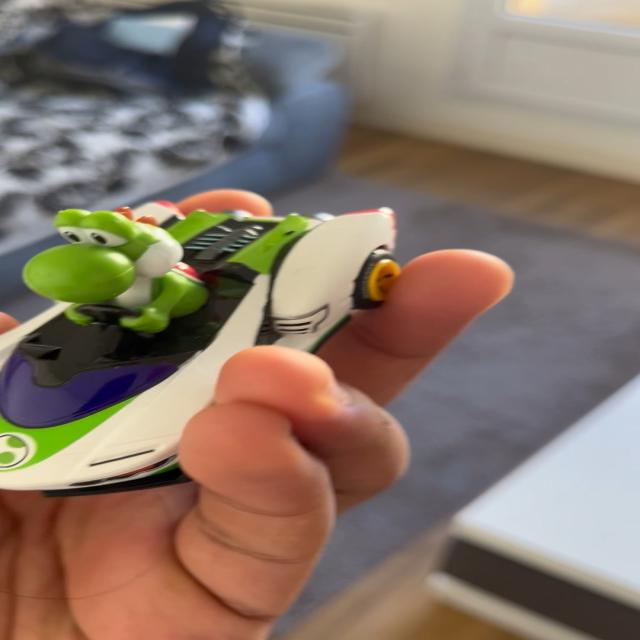yoshi: (0, 172, 431, 514)
